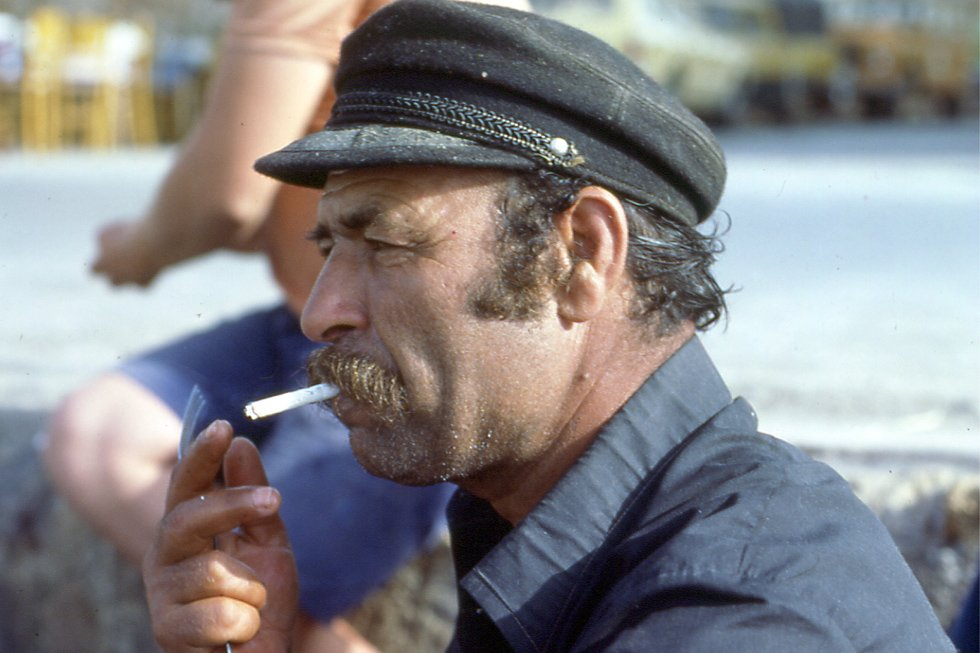cigarette: (245, 377, 344, 419)
